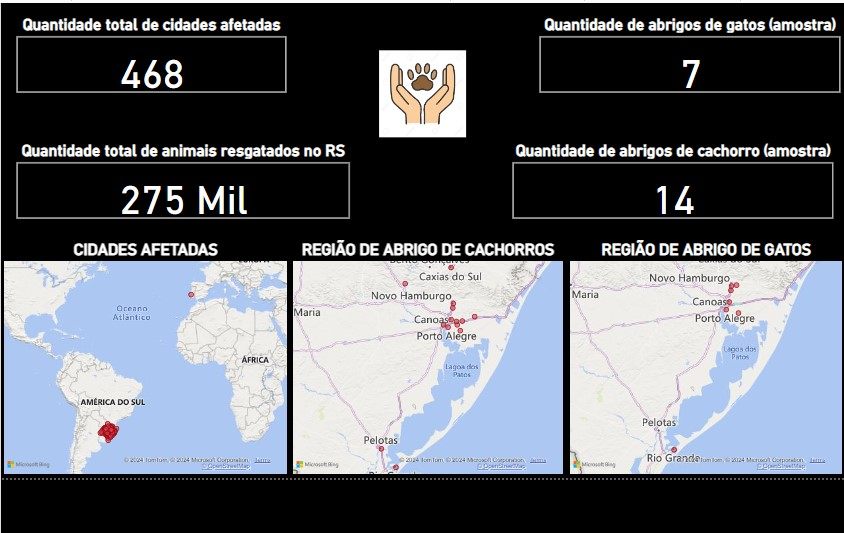

The page's visual inventory and layout, read from the dashboard file:
{"tool":"powerbi","page":{"name":"3","canvas":[1280,720],"ordinal":2},"visuals":[{"type":"cardVisual","title":"Quantidade de abrigos de cachorro (amostra)","fields":{"Data":["Sum(Planilha1 (2).Quantidade de abrigo de cachorros)"]},"box":[770.8,208.9,497.4,123.7],"z":0},{"type":"cardVisual","title":"Quantidade total de cidades afetadas","fields":{"Data":["Sum(Planilha1 (2).Quantidade de cidades afetadas)"]},"box":[17.9,17.9,420.5,123.7],"z":1000},{"type":"cardVisual","title":"Quantidade de abrigos de gatos (amostra)","fields":{"Data":["Sum(Planilha1 (2).Quantidade de abrigo de gatos)"]},"box":[812.1,17.9,467.2,123.7],"z":2000},{"type":"cardVisual","title":"Quantidade total de animais resgatados no RS","fields":{"Data":["Sum(Planilha1 (2).Quantidade de animais resgatados)"]},"box":[17.9,208.9,516.6,123.7],"z":3000},{"type":"map","title":"REGIÃO DE ABRIGO DE GATOS","fields":{"Category":["Planilha1.Abrigos de Gatos"]},"box":[857.6,359.7,422.4,359.7],"z":4000},{"type":"map","title":"REGIÃO DE ABRIGO DE CACHORROS","fields":{"Category":["Planilha1. Abrigo de cachorros"]},"box":[439,359.7,418.7,359.7],"z":5000},{"type":"map","title":"CIDADES AFETADAS","fields":{"Category":["Planilha1 (6).Cidades afetadas"]},"box":[0,359.7,439,359.7],"z":6000},{"type":"image","box":[447.9,67.3,383.4,141.5],"z":7000}]}

Visuals, with their boxes on the page's 1280x720 design canvas (x1, y1, x2, y2). These are canvas units, not pixel positions in the 844x533 screenshot, which may show the page scaled, cropped or inside an application window:
"Quantidade de abrigos de cachorro (amostra)" cardVisual: [771, 209, 1268, 333]
"Quantidade total de cidades afetadas" cardVisual: [18, 18, 438, 142]
"Quantidade de abrigos de gatos (amostra)" cardVisual: [812, 18, 1279, 142]
"Quantidade total de animais resgatados no RS" cardVisual: [18, 209, 534, 333]
"REGIÃO DE ABRIGO DE GATOS" map: [858, 360, 1280, 719]
"REGIÃO DE ABRIGO DE CACHORROS" map: [439, 360, 858, 719]
"CIDADES AFETADAS" map: [0, 360, 439, 719]
image: [448, 67, 831, 209]
